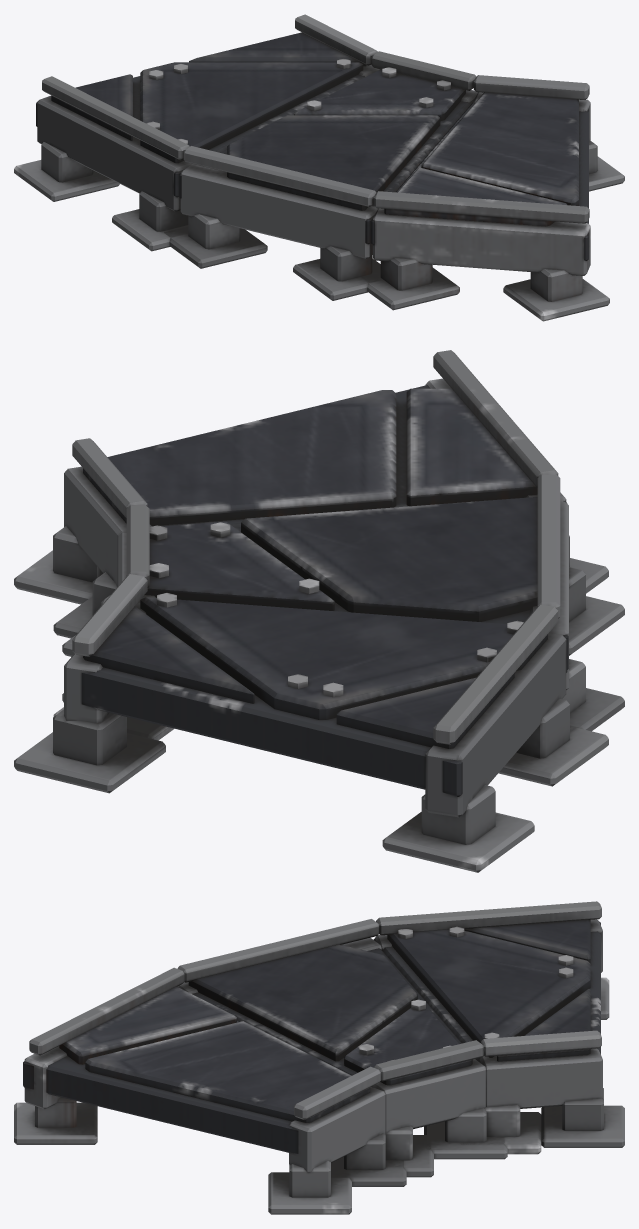
The model's file is nodexeus-set-walk-turn-60.glb.
The picture shows the model from 3 angles, top to bottom: view 1: azimuth 30°, elevation 25°; view 2: azimuth 150°, elevation 25°; view 3: azimuth 270°, elevation 25°; orthographic projection. The views are drawn at different scales.
Visible parts, largest first — view 1: set-walk-turn-60; view 2: set-walk-turn-60; view 3: set-walk-turn-60.
Boxes of the visible parts, x1=… form: set-walk-turn-60: x1=14, y1=14, x2=624, y2=321; set-walk-turn-60: x1=14, y1=350, x2=624, y2=872; set-walk-turn-60: x1=14, y1=901, x2=624, y2=1214.
Bounding box in the file's own units: 2.6 × 0.515 × 2.92.
Materials: 1 (1 with a texture image).
